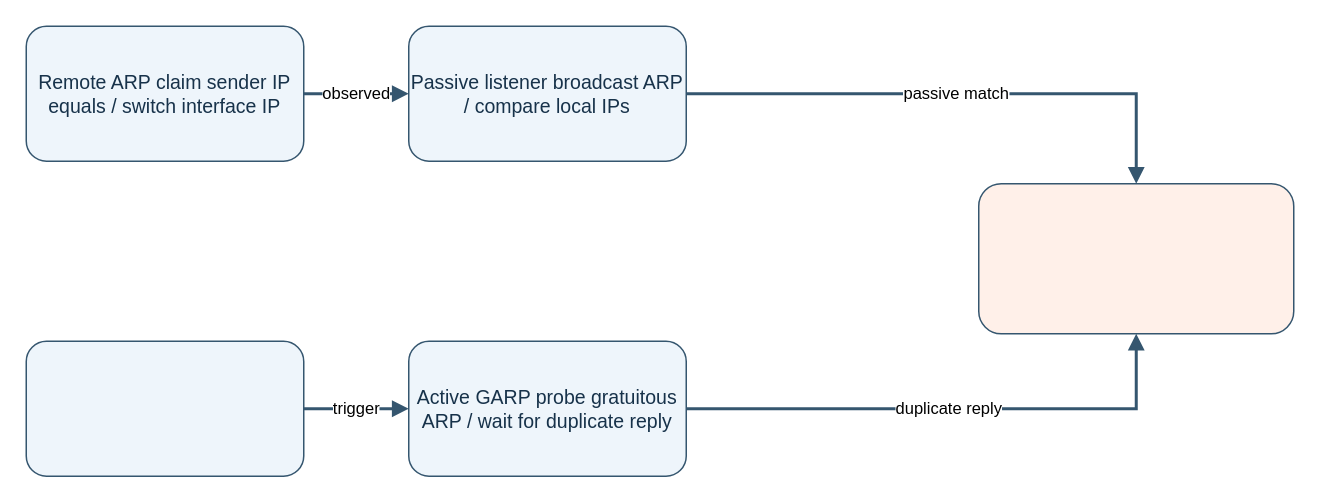
Some shapes in this 1320 by 503 pixel diagram are drawn without their labels. Here are the shapes that lost their labels. From the top down, the centre of each, then its label:
the point at 1135,258: Conflict evidence system log / passive path: SNMP trap
the point at 164,408: Local lifecycle event boot / interface up / IP address change
